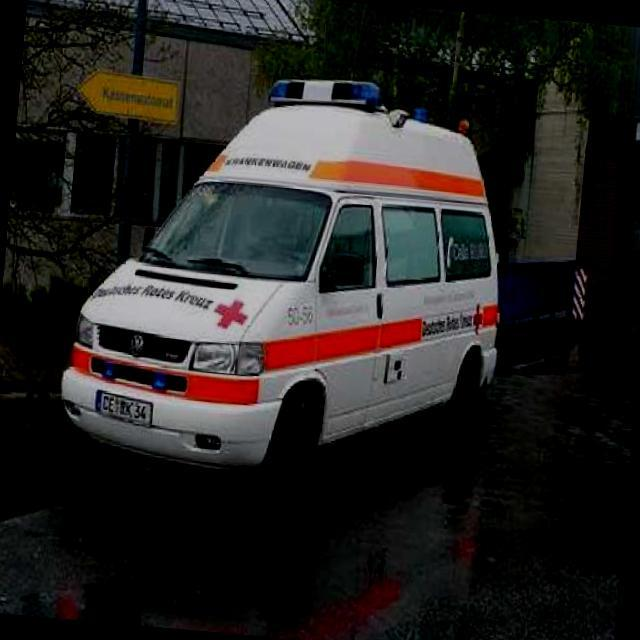emergency-vehicle: (51, 54, 523, 512)
